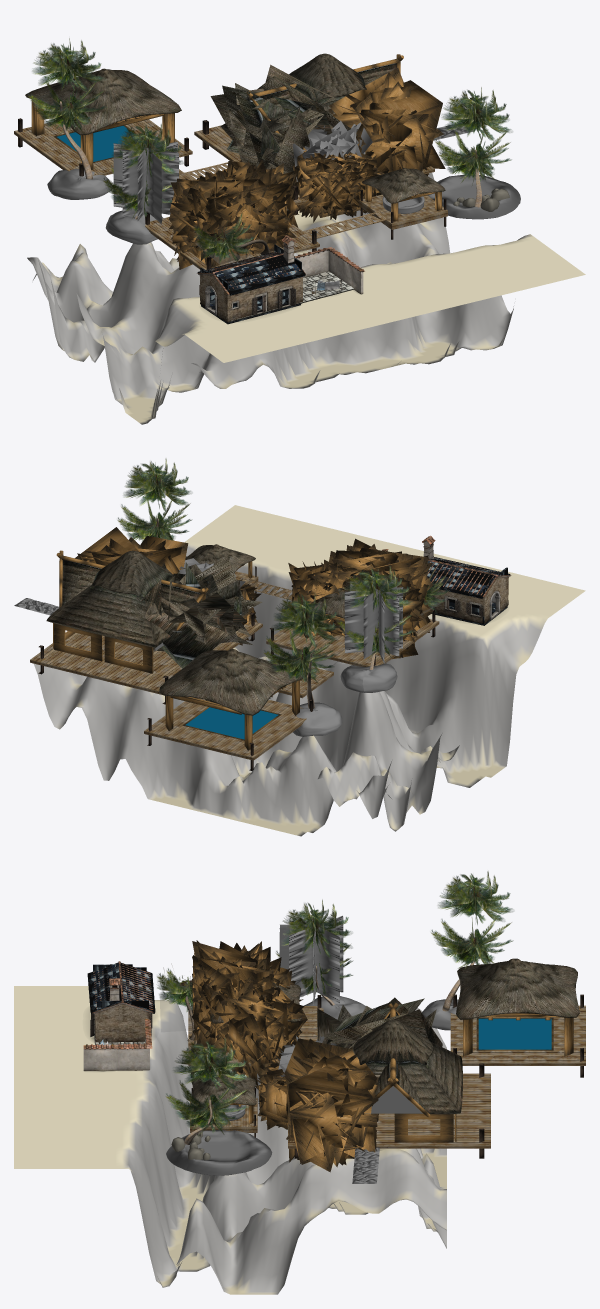
3 views of the same model, one above another, from view 1: azimuth 30°, elevation 25°; view 2: azimuth 150°, elevation 25°; view 3: azimuth 270°, elevation 25° (orthographic). The views are drawn at different scales.
Parts seen in each view (by area): view 1: Hawai huisjes, Terrain 0,2, 8f8 - Primavera in Toscana Manor RARE (×3), 8f8 - primavera in Toscana Loggia Wall; view 2: Terrain 0,2, Hawai huisjes, 8f8 - Primavera in Toscana Manor RARE (×3); view 3: Hawai huisjes, Terrain 0,2, 8f8 - Primavera in Toscana Manor RARE (×4), 8f8 - primavera in Toscana Loggia Wall (×2).
Boxes of the visible parts, x1,y1,x2,y2 form: Hawai huisjes: [14, 38, 520, 269]; Terrain 0,2: [27, 172, 585, 424]; 8f8 - Primavera in Toscana Manor RARE (×3): [197, 252, 305, 322]; 8f8 - primavera in Toscana Loggia Wall: [296, 247, 348, 281]; Terrain 0,2: [34, 505, 585, 836]; Hawai huisjes: [14, 458, 448, 770]; 8f8 - Primavera in Toscana Manor RARE (×3): [427, 557, 511, 623]; Hawai huisjes: [157, 871, 585, 1183]; Terrain 0,2: [14, 986, 446, 1294]; 8f8 - Primavera in Toscana Manor RARE (×4): [87, 961, 155, 1042]; 8f8 - primavera in Toscana Loggia Wall (×2): [83, 1028, 152, 1070].
Bounding box in the file's own units: 73.35 × 44.41 × 84.56.
Materials: 64 (63 with a texture image).
